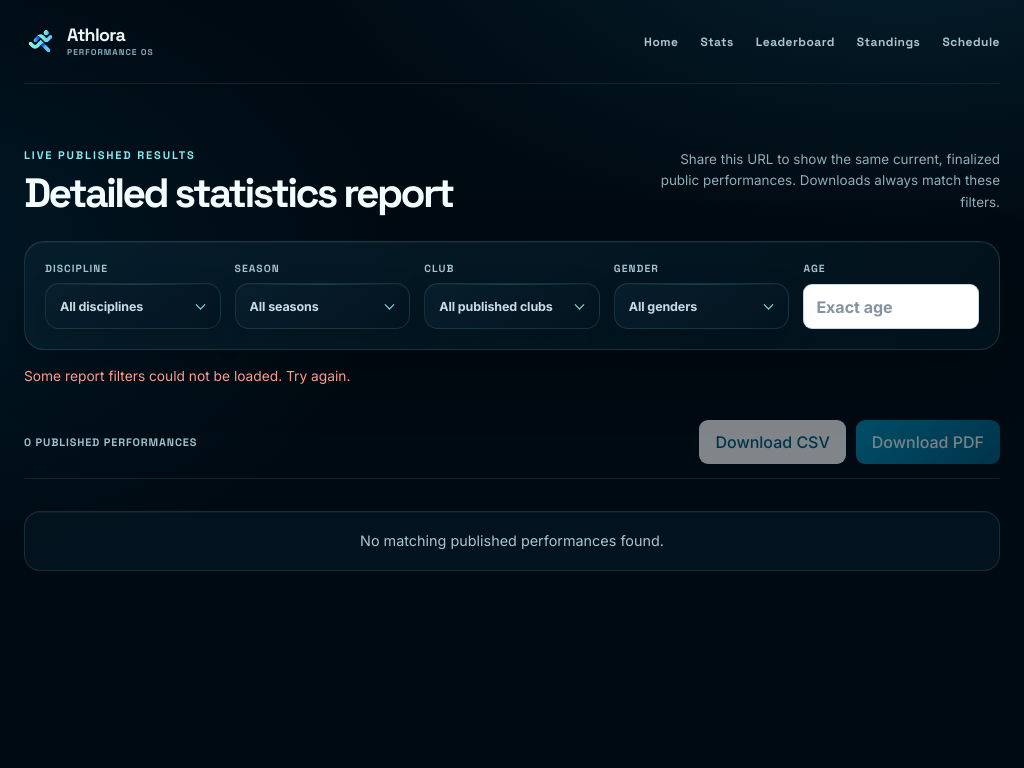
Test: PublicStatisticsReportPage › keeps available filters when another filter source fails
The image size is (1024, 768).
Click the button "All seasons": (322,306) left=236, top=284, right=409, bottom=328
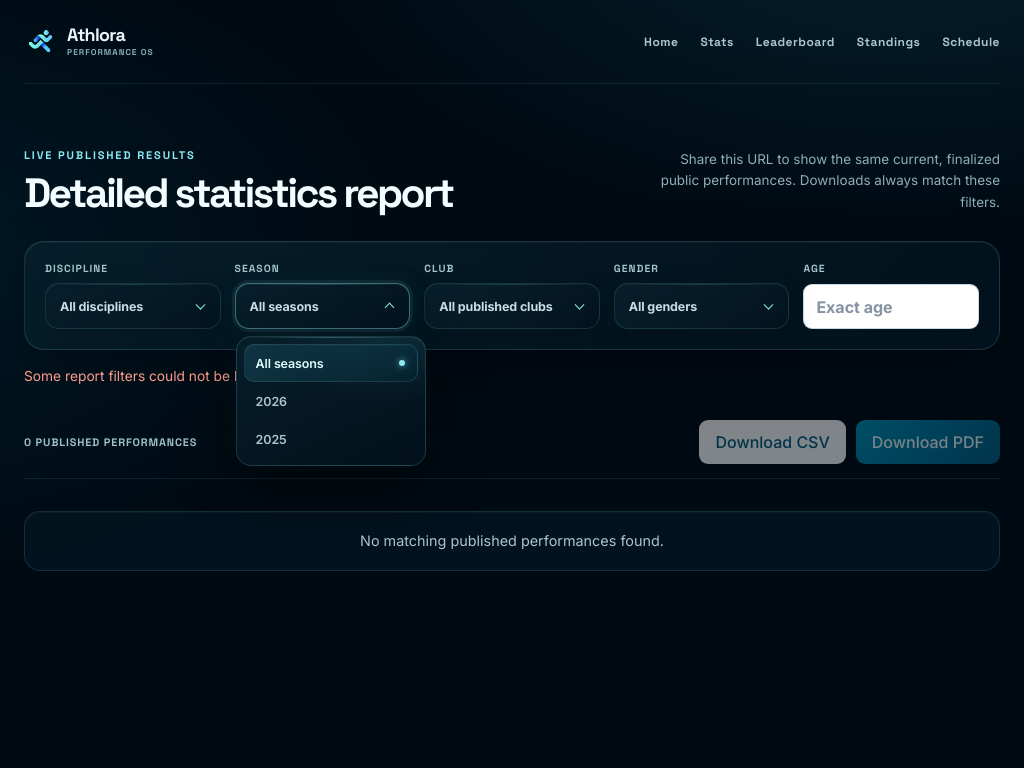
Expected: the message "Some report filters could not be loaded. Try again." is shown, left=24, top=368, right=350, bottom=384
Expected: the option "2025" is shown, left=244, top=420, right=418, bottom=458
